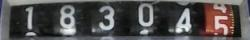digits: (206, 13, 236, 39), (174, 7, 192, 33), (98, 5, 114, 30), (59, 4, 75, 28), (137, 2, 153, 26), (24, 6, 33, 28)
